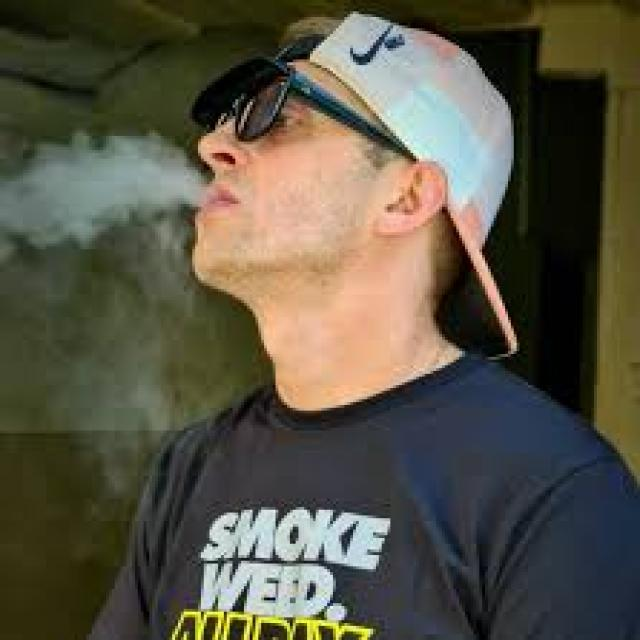cap: (261, 0, 594, 379)
